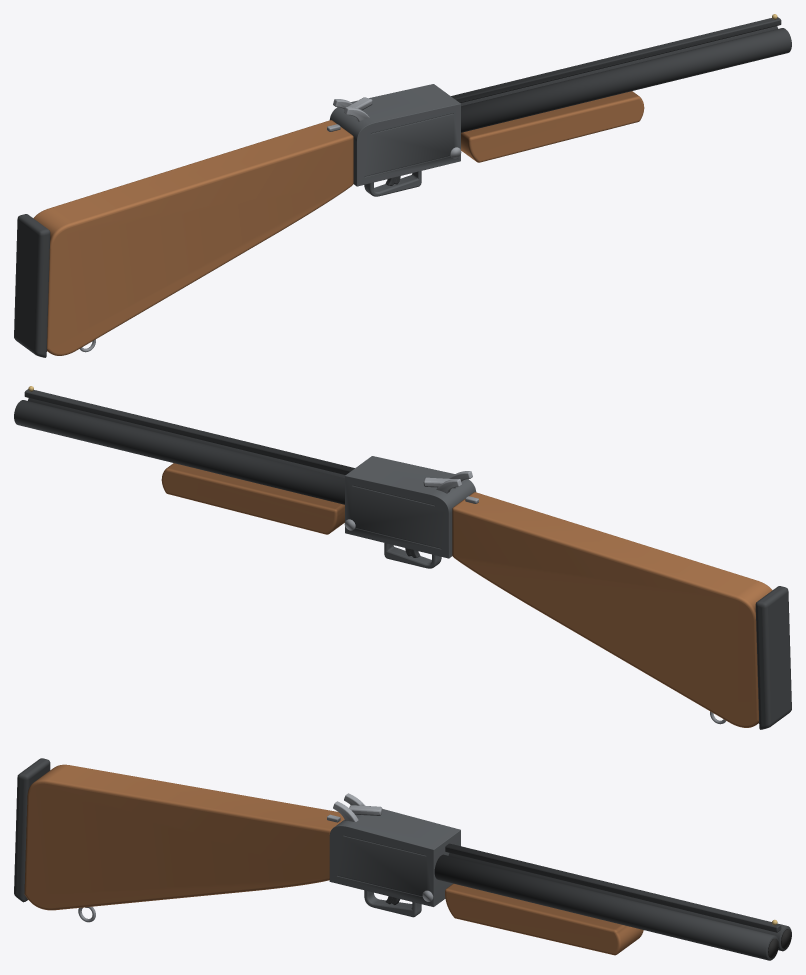
File: dbarrel.glb
3 renders of one model, top to bottom at view 1: azimuth 30°, elevation 25°; view 2: azimuth 150°, elevation 25°; view 3: azimuth 330°, elevation 25°, orthographic.
Visible parts, largest first — view 1: stock, barrel-1, action, forend, buttplate, rib, barrel1, guard; view 2: stock, barrel1, action, forend, buttplate, rib, barrel-1, guard; view 3: stock, barrel-1, action, forend, rib, buttplate, barrel1, guard.
Part boxes in pixels (x1,y1,x2,y2): stock: (33,120,353,355); barrel-1: (461,28,791,132); action: (329,84,460,186); forend: (461,91,644,162); buttplate: (14,214,50,357); rib: (451,17,781,102); barrel1: (460,26,777,106); guard: (364,171,421,196); stock: (452,492,772,727); barrel1: (14,400,344,504); action: (345,456,476,558); forend: (161,463,344,534); buttplate: (755,586,791,729); rib: (24,389,354,474); barrel-1: (28,398,345,478); guard: (384,543,441,568); stock: (24,764,344,910); barrel-1: (434,854,778,960); action: (329,806,460,906); forend: (445,883,643,955); rib: (445,843,781,932); buttplate: (14,758,50,902); barrel1: (448,853,791,951); guard: (364,890,421,917).
Size of the model in its own units: 0.7966 by 0.1873 by 0.052.
